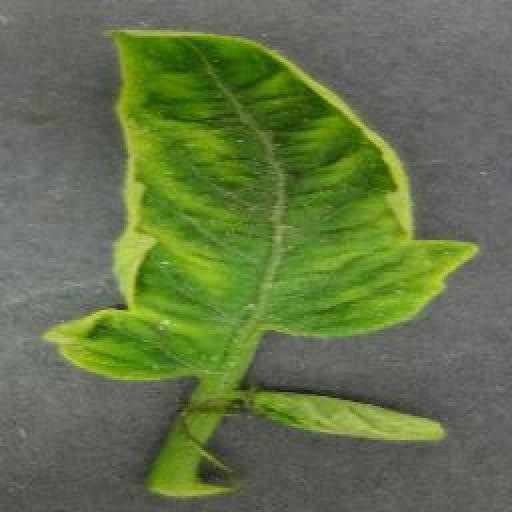disease_tomato: (41, 26, 479, 378), (252, 388, 451, 444)
